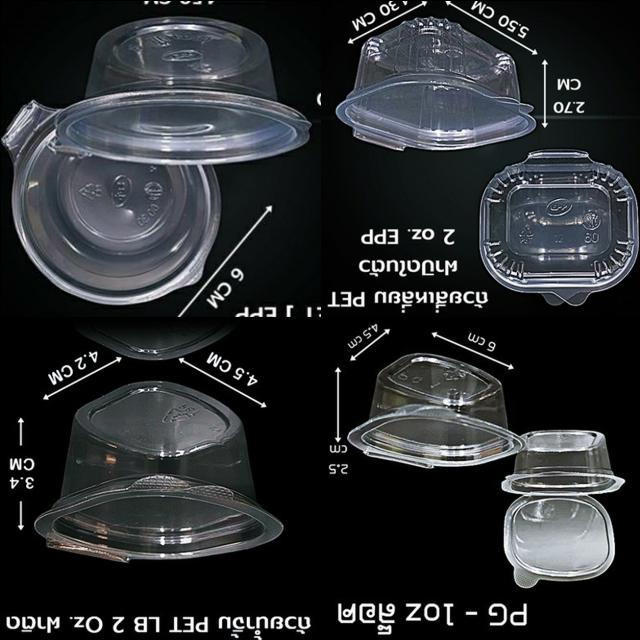plastik: (35, 380, 282, 560), (2, 100, 219, 303), (51, 16, 310, 164), (335, 17, 534, 149), (479, 149, 638, 304), (347, 352, 523, 466), (501, 429, 624, 586)
